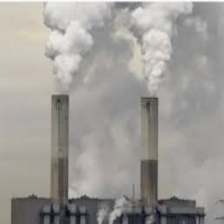smoke: (43, 3, 203, 98)
